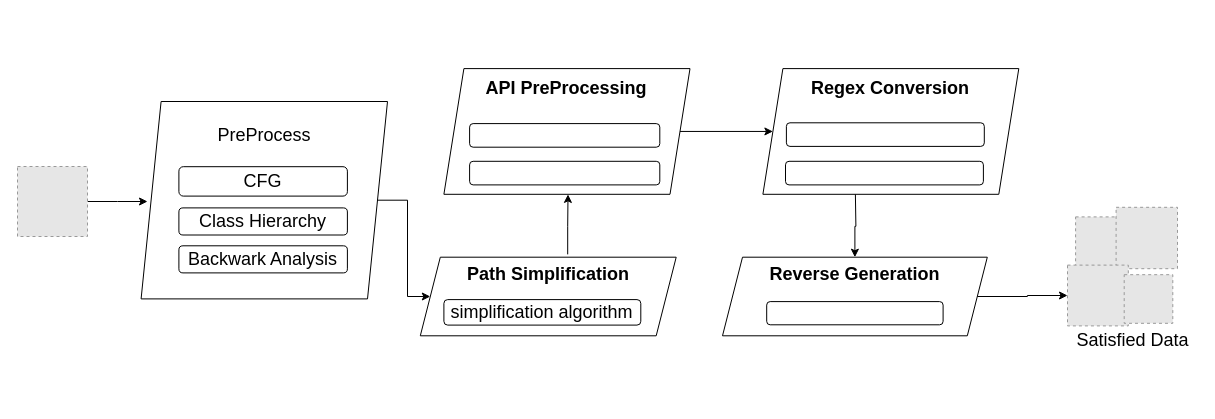
This 1215x419 diagram has some shape labels left out. Grey dashed boxes stand in for pictures. The shapes that lost their labels are listed below. From the top down, each one's centre as x and y in pixels, then its label:
point (564, 135): API Classification
point (884, 134): API-Regex Conversion
point (564, 172): API-Regex Mapping
point (883, 172): Regex Splicing
point (854, 313): RgexGen
